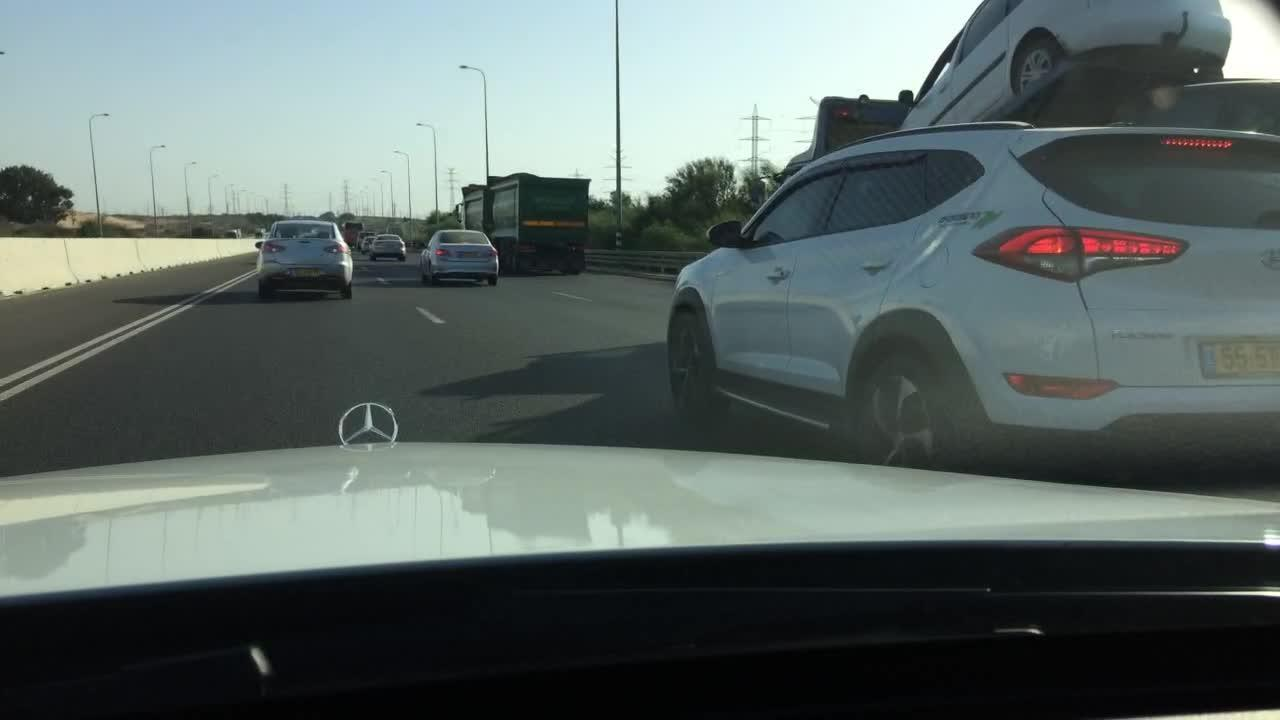Mercedes: (330, 398, 407, 452)
